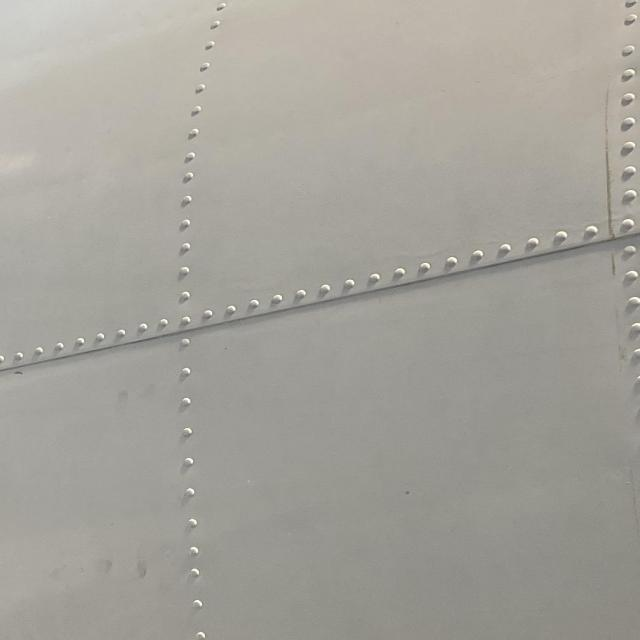Paint-off: (14, 371, 25, 375)
